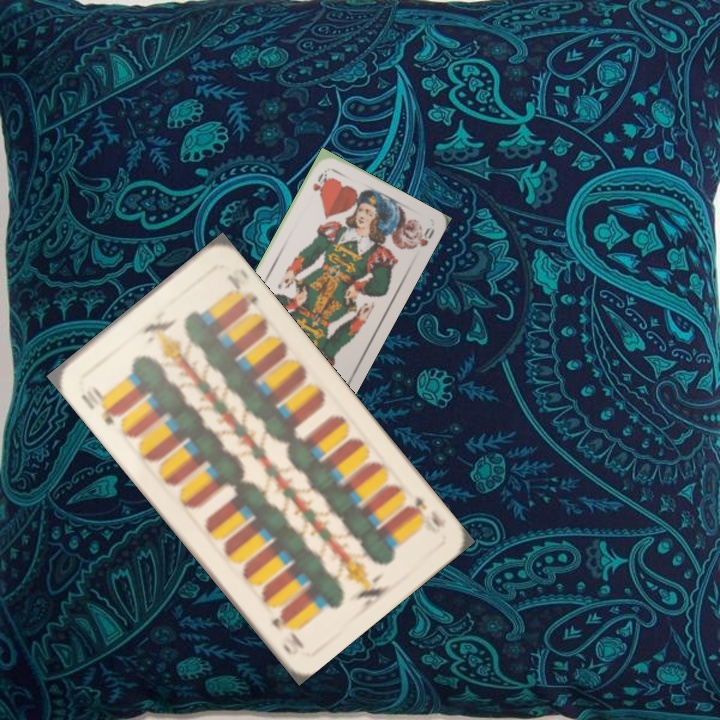E10: (76, 382, 122, 428), (402, 492, 448, 537)
HO: (308, 166, 331, 198)
